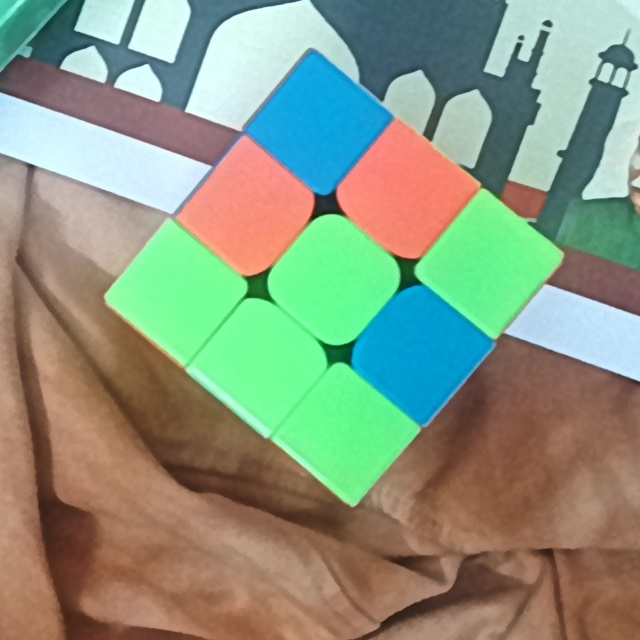tile: (378, 316, 455, 389), (279, 88, 358, 159), (223, 328, 299, 400), (209, 174, 286, 245), (450, 227, 524, 300), (373, 155, 446, 228), (298, 241, 369, 316), (308, 399, 382, 469), (141, 254, 218, 320)
